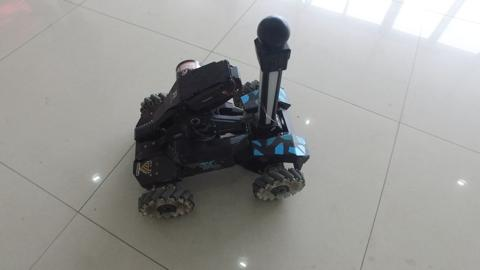chariot: (125, 20, 317, 226)
